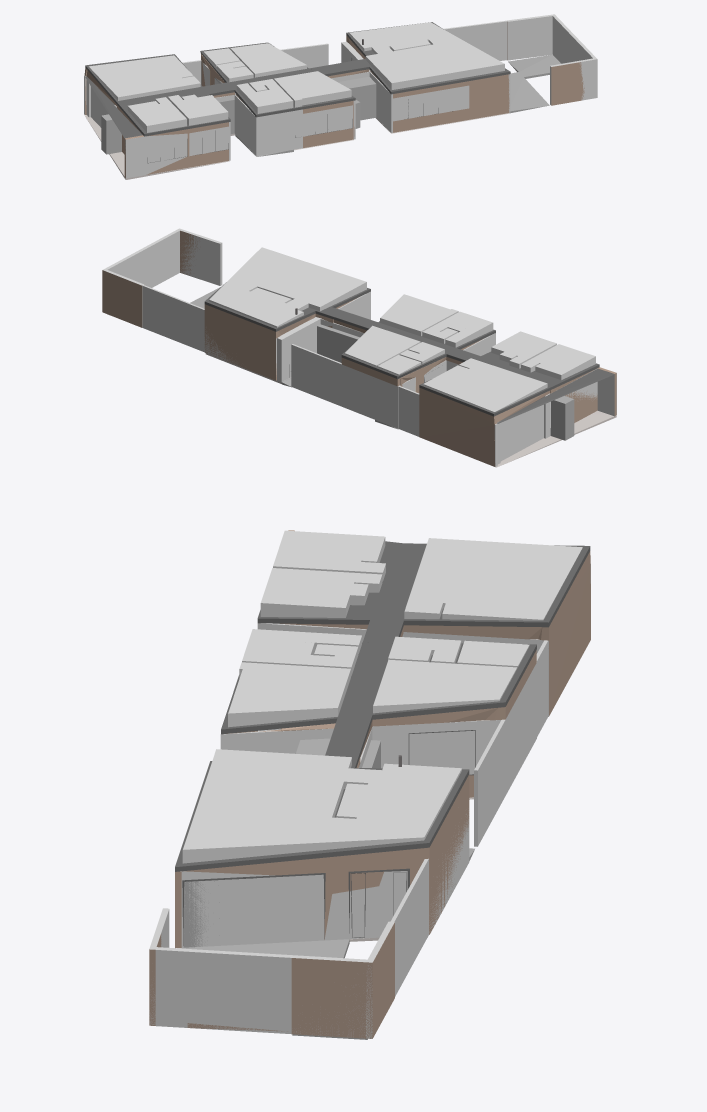
Rendered from CasaDaCuper.glb.
3 views of the same model, one above another, from view 1: azimuth 30°, elevation 25°; view 2: azimuth 150°, elevation 25°; view 3: azimuth 270°, elevation 25° (orthographic). The views are drawn at different scales.
Visible parts, largest first — view 1: Parede básica:Parede Tijolo-Madeira - 250 mm:327100, 1.001, 7, 11, 8, 4, 5, 1, 3, 2, Parede básica:Parede Tijolo-Madeira - 150 mm:497319.001, Parede básica:Parede Externa Tijolo - 250 mm:324947.001 (+17 smaller); view 2: Parede básica:Parede Tijolo-Madeira - 250 mm:327100, 1.001, 11, 7, 8, 4, 5, 1, 3, 2, Parede básica:Parede Tijolo-Madeira - 150 mm:497319.001, Parede básica:Parede Externa Tijolo - 250 mm:324947.001 (+2 smaller); view 3: Parede básica:Parede Tijolo-Madeira - 250 mm:327100, 1.001, 7, 11, 8, 4, 5, 2, Porta envidraçada de correr quádrupla com revestimento:5.001, 1, 3, 10 (+5 smaller).
Part boxes in pixels (x1,y1,x2,y2): Parede básica:Parede Tijolo-Madeira - 250 mm:327100: (84,22,584,179); 1.001: (84,14,597,178); 7: (365,39,504,89); 11: (88,55,200,127); 8: (349,22,461,54); 4: (274,71,351,107); 5: (230,43,306,77); 1: (127,97,186,132); 3: (236,79,293,113); 2: (168,94,228,125); Parede básica:Parede Tijolo-Madeira - 150 mm:497319.001: (338,77,376,120); Parede básica:Parede Externa Tijolo - 250 mm:324947.001: (101,114,121,154); Parede básica:Parede Tijolo-Madeira - 250 mm:327100: (102,230,616,467); 1.001: (103,228,616,466); 11: (423,358,547,461); 7: (231,247,366,311); 8: (209,278,308,327); 4: (380,294,458,336); 5: (344,325,420,366); 1: (521,344,595,379); 3: (422,311,493,347); 2: (491,331,556,368); Parede básica:Parede Tijolo-Madeira - 150 mm:497319.001: (317,324,359,362); Parede básica:Parede Externa Tijolo - 250 mm:324947.001: (550,396,574,440); Parede básica:Parede Tijolo-Madeira - 250 mm:327100: (149,530,590,1039); 1.001: (149,563,590,1038); 7: (182,749,351,863); 11: (404,538,582,620); 8: (323,763,461,849); 4: (228,662,350,730); 5: (373,659,517,713); 2: (260,568,382,617); Porta envidraçada de correr quádrupla com revestimento:5.001: (254,874,324,943); 1: (273,530,385,581); 3: (242,629,361,676); 10: (388,636,461,663).
Bounding box in the file's own units: 4963 × 464 × 2589.
